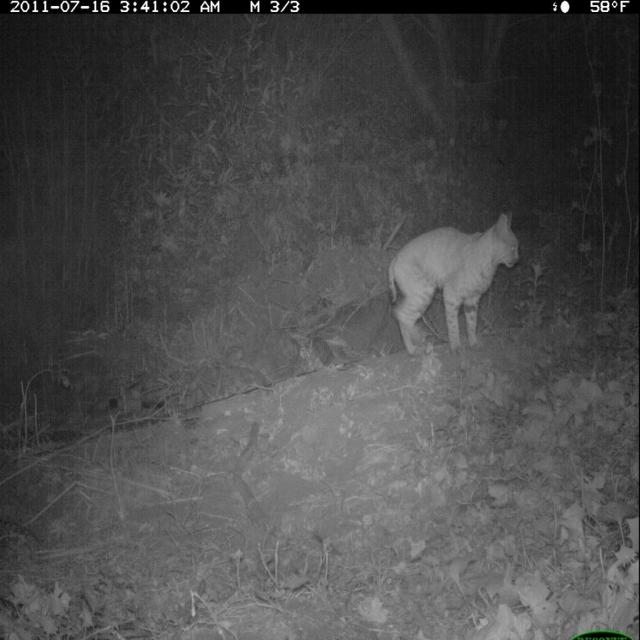bobcat: (388, 202, 524, 367)
